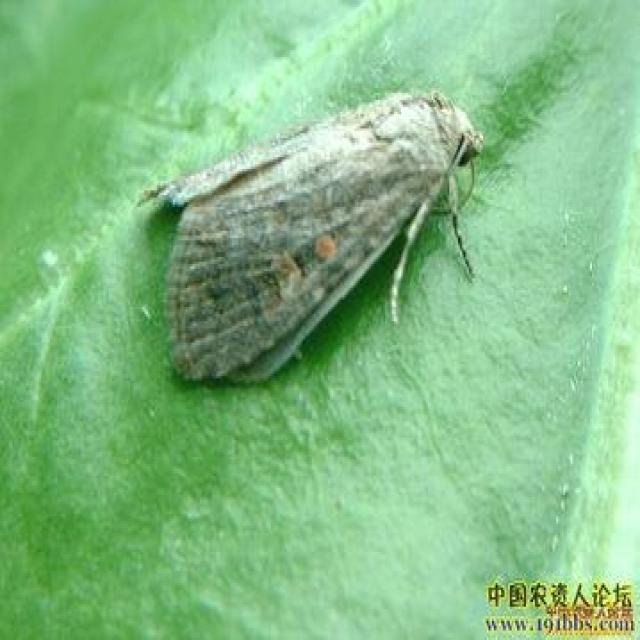BeetArmyWorm-Adult-: (131, 86, 492, 392)
